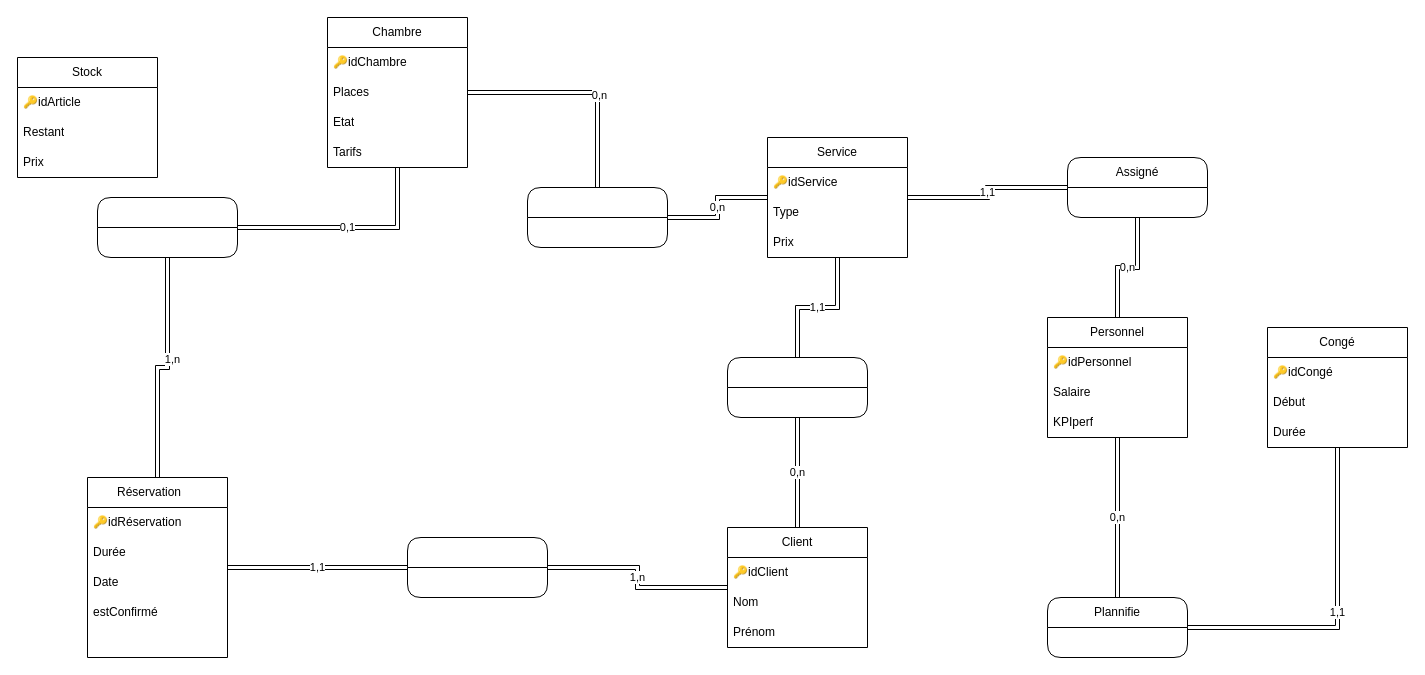
Image size: 1425x675. Some labels were removed from this diagram. The centre of each missing label's shape, as x and y in pixels:
"Commande" goes at (x=797, y=387).
"Nécessite" goes at (x=597, y=217).
"Réserve" goes at (x=477, y=567).
"Utilise" goes at (x=167, y=227).
